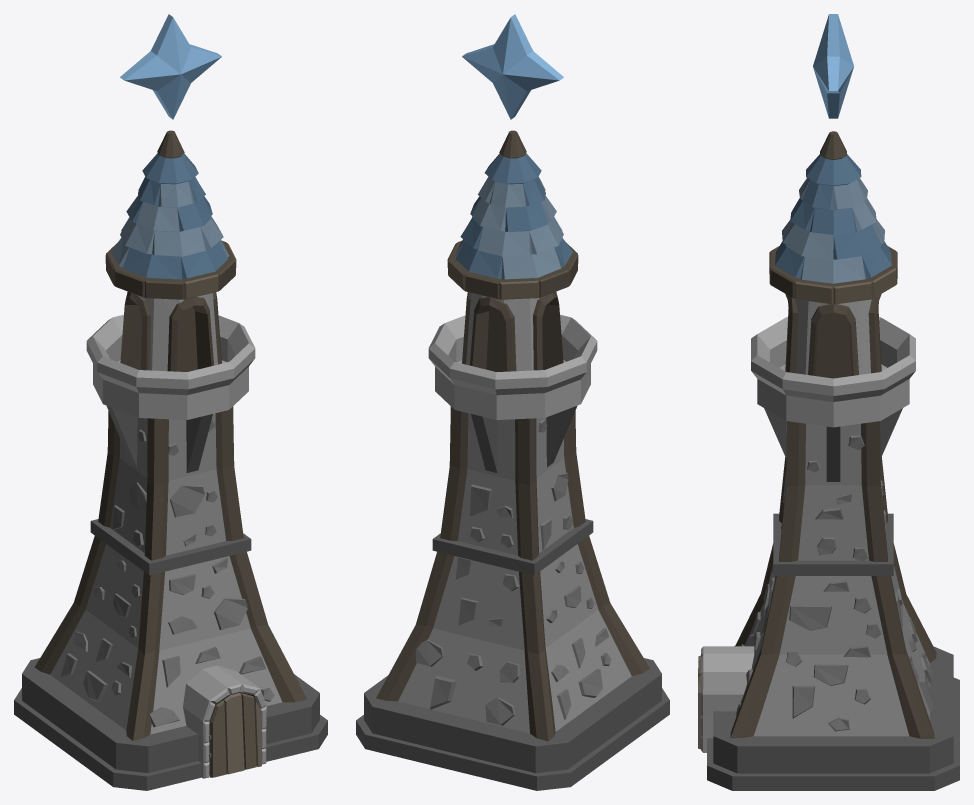
The model's file is _Frosty_tower_LVL_2.fbx.
3 views of the same model, side by side, from view 1: azimuth 30°, elevation 25°; view 2: azimuth 150°, elevation 25°; view 3: azimuth 270°, elevation 25° (orthographic). The views are drawn at different scales.
Visible parts, largest first — view 1: Frosty_tower_LVL_2; view 2: Frosty_tower_LVL_2; view 3: Frosty_tower_LVL_2.
Part boxes in pixels (<box>): Frosty_tower_LVL_2: <box>14,14,327,790</box>; Frosty_tower_LVL_2: <box>356,14,669,790</box>; Frosty_tower_LVL_2: <box>698,14,959,790</box>.
Bounding box in the file's own units: 618 × 1951 × 640.
